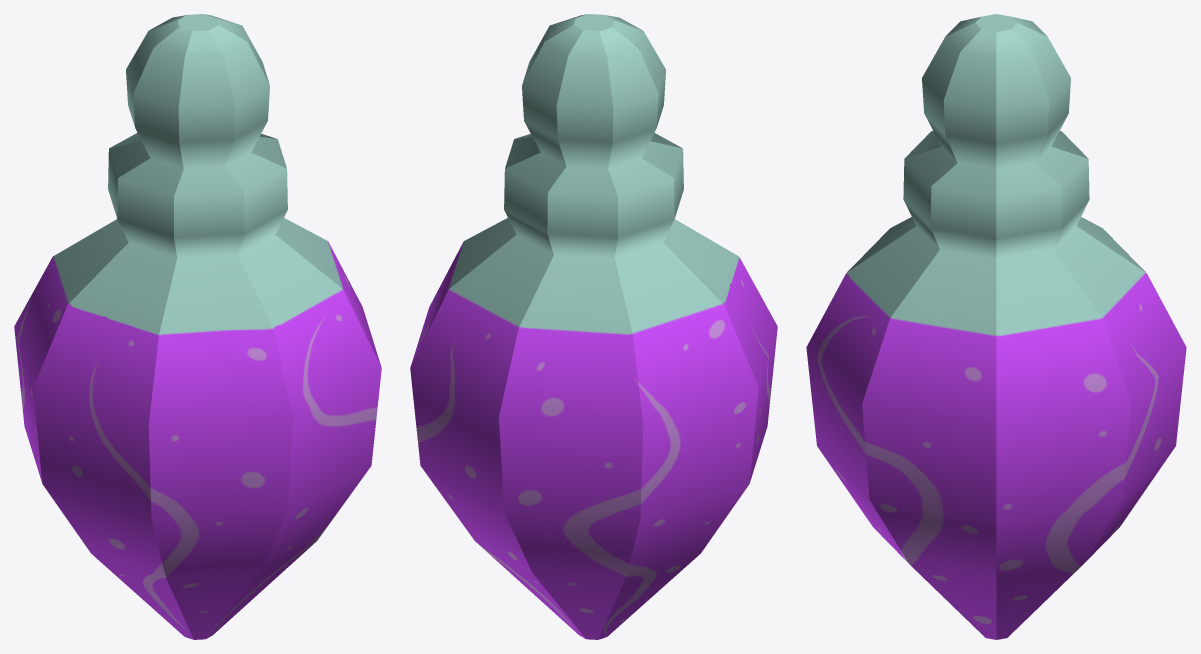
File: AssetPocion.fbx
3 renders of one model, left to right at view 1: azimuth 30°, elevation 25°; view 2: azimuth 150°, elevation 25°; view 3: azimuth 270°, elevation 25°, orthographic.
Parts seen in each view (by area): view 1: Pocion; view 2: Pocion; view 3: Pocion.
Boxes of the visible parts, x1,y1,x2,y2 form: Pocion: [14, 14, 381, 639]; Pocion: [410, 14, 777, 639]; Pocion: [806, 14, 1186, 639].
Size of the model in its own units: 1.07 by 1.9 by 1.07.
